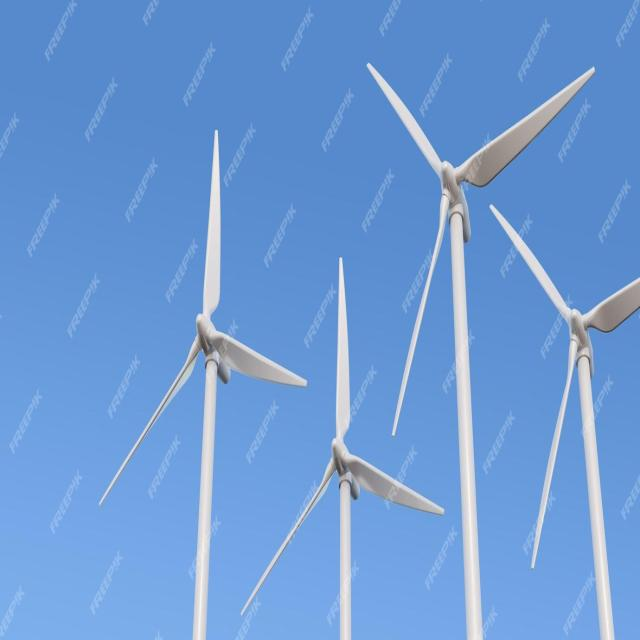solid-blade: (99, 335, 201, 504), (455, 68, 595, 188), (241, 458, 335, 615), (391, 192, 450, 436), (368, 62, 441, 176), (344, 450, 444, 515), (209, 330, 306, 386), (202, 130, 220, 316), (336, 258, 350, 439)
wind-turbine: (368, 62, 594, 640), (100, 130, 306, 640), (241, 258, 444, 639)
